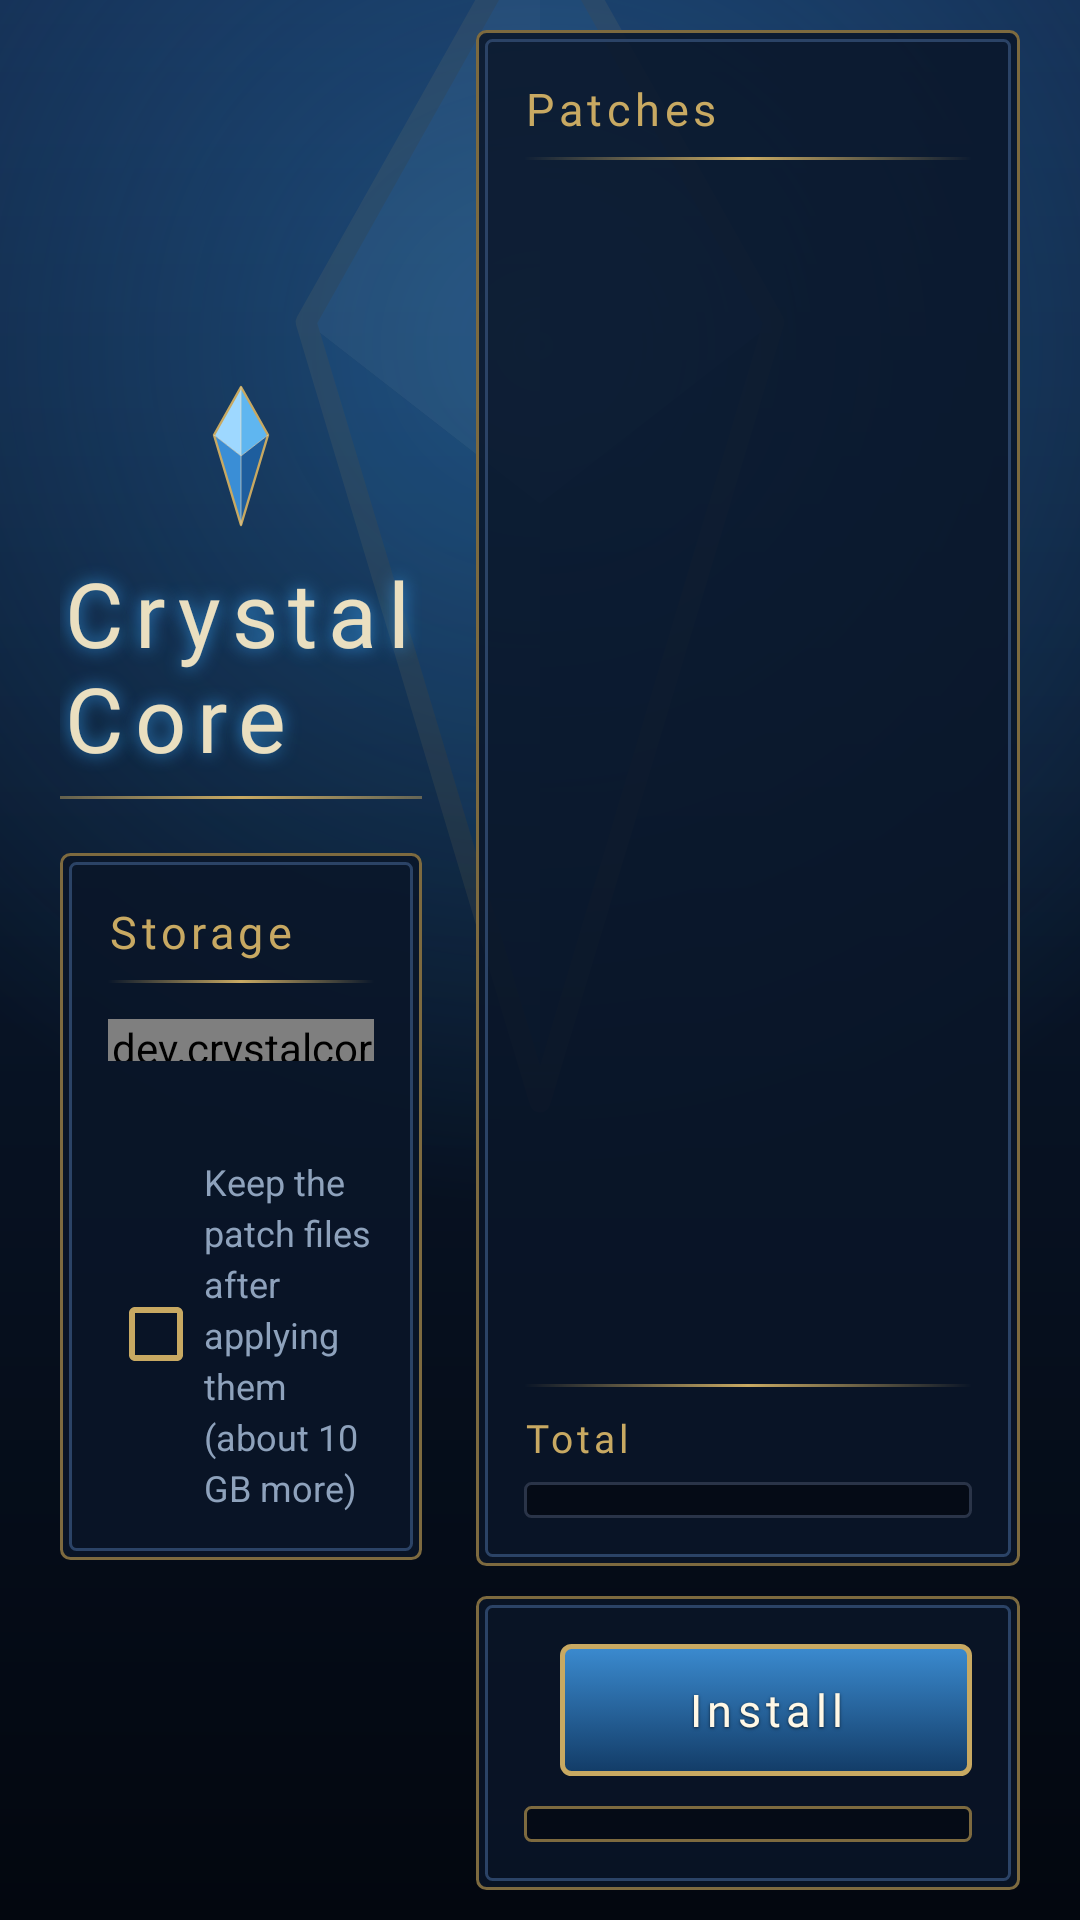

Screen size 1080w x 1920h. Icon name, then its box in pixels as (x1, y1, x2, y2):
crystal mark: (213, 386, 269, 526)
